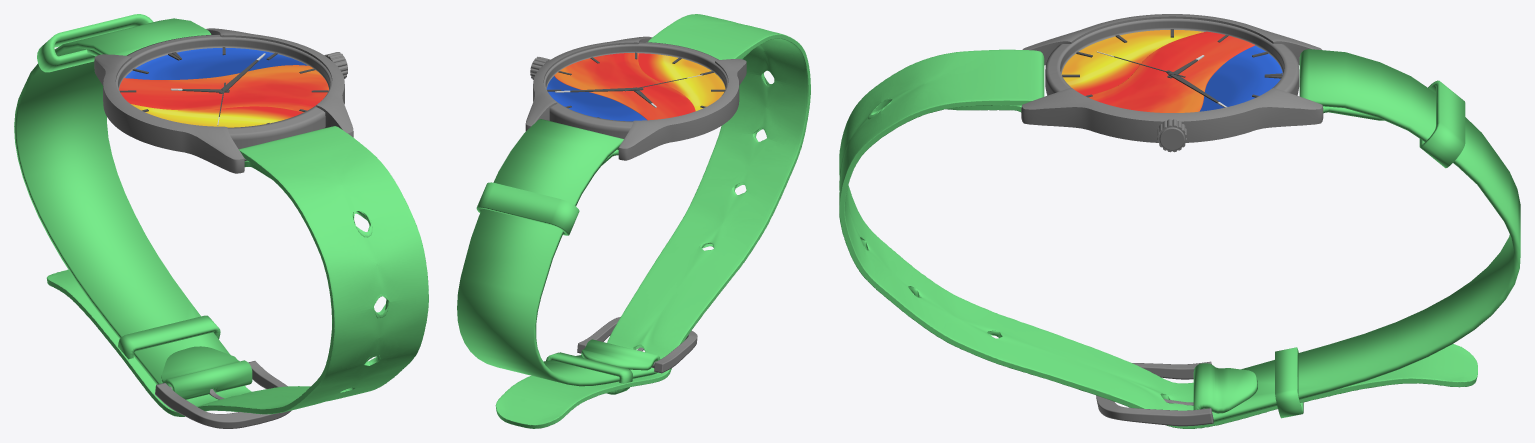
Rendered from compressedFirstWatch8.gltf.
The picture shows the model from 3 angles, left to right: view 1: azimuth 30°, elevation 25°; view 2: azimuth 150°, elevation 25°; view 3: azimuth 270°, elevation 25°; orthographic projection. The views are drawn at different scales.
Visible parts, largest first — view 1: Plane, Plane.001, Case 1, Dial Wave, Dial 1, Case 2, Cylinder; view 2: Plane.001, Plane, Case 1, Dial Wave, Dial 1, Case 2, Cylinder; view 3: Plane.001, Plane, Case 1, Dial 1, Dial Wave, Case 2, Cylinder, Wheel.
Part boxes in pixels (x1=…): Plane: x1=14, y1=14, x2=252, y2=399; Plane.001: x1=46, y1=126, x2=428, y2=416; Case 1: x1=94, y1=28, x2=353, y2=173; Dial Wave: x1=119, y1=65, x2=328, y2=112; Dial 1: x1=125, y1=48, x2=307, y2=127; Case 2: x1=116, y1=34, x2=332, y2=149; Cylinder: x1=155, y1=361, x2=291, y2=428; Plane.001: x1=495, y1=14, x2=810, y2=428; Plane: x1=457, y1=119, x2=660, y2=394; Case 1: x1=525, y1=36, x2=746, y2=160; Dial Wave: x1=554, y1=53, x2=695, y2=120; Dial 1: x1=546, y1=53, x2=725, y2=121; Case 2: x1=544, y1=42, x2=728, y2=138; Cylinder: x1=577, y1=317, x2=697, y2=373; Plane.001: x1=839, y1=49, x2=1477, y2=428; Plane: x1=1193, y1=49, x2=1520, y2=425; Case 1: x1=1021, y1=14, x2=1323, y2=142; Dial 1: x1=1061, y1=30, x2=1282, y2=111; Dial Wave: x1=1088, y1=31, x2=1254, y2=112; Case 2: x1=1045, y1=18, x2=1299, y2=95; Cylinder: x1=1096, y1=361, x2=1213, y2=426; Wheel: x1=1157, y1=119, x2=1186, y2=152.
Bounding box in the file's own units: 0.108 × 0.1521 × 0.2707.
6 materials, 2 textured.
